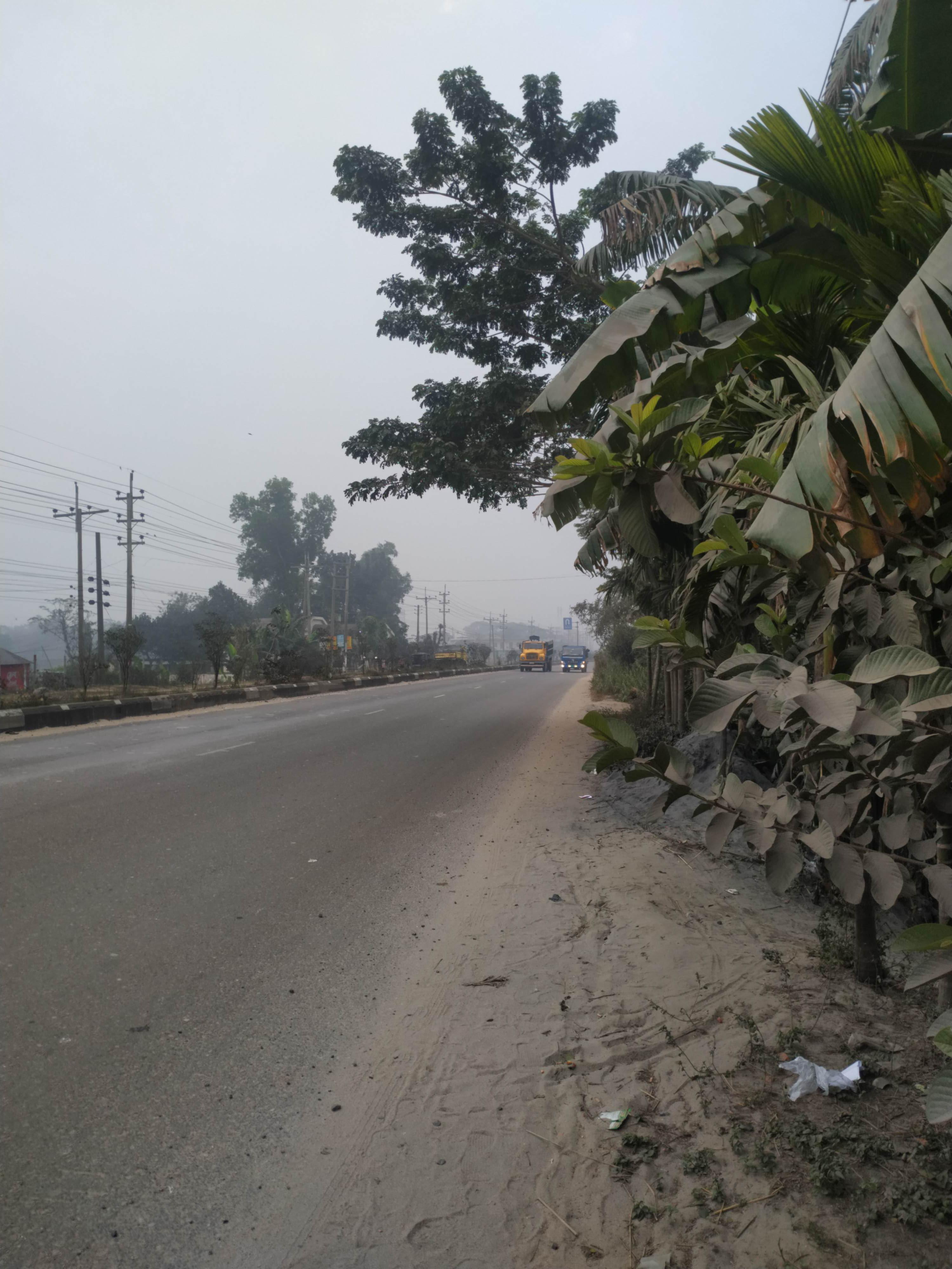Truck: (509, 622, 558, 679), (555, 641, 593, 686)
